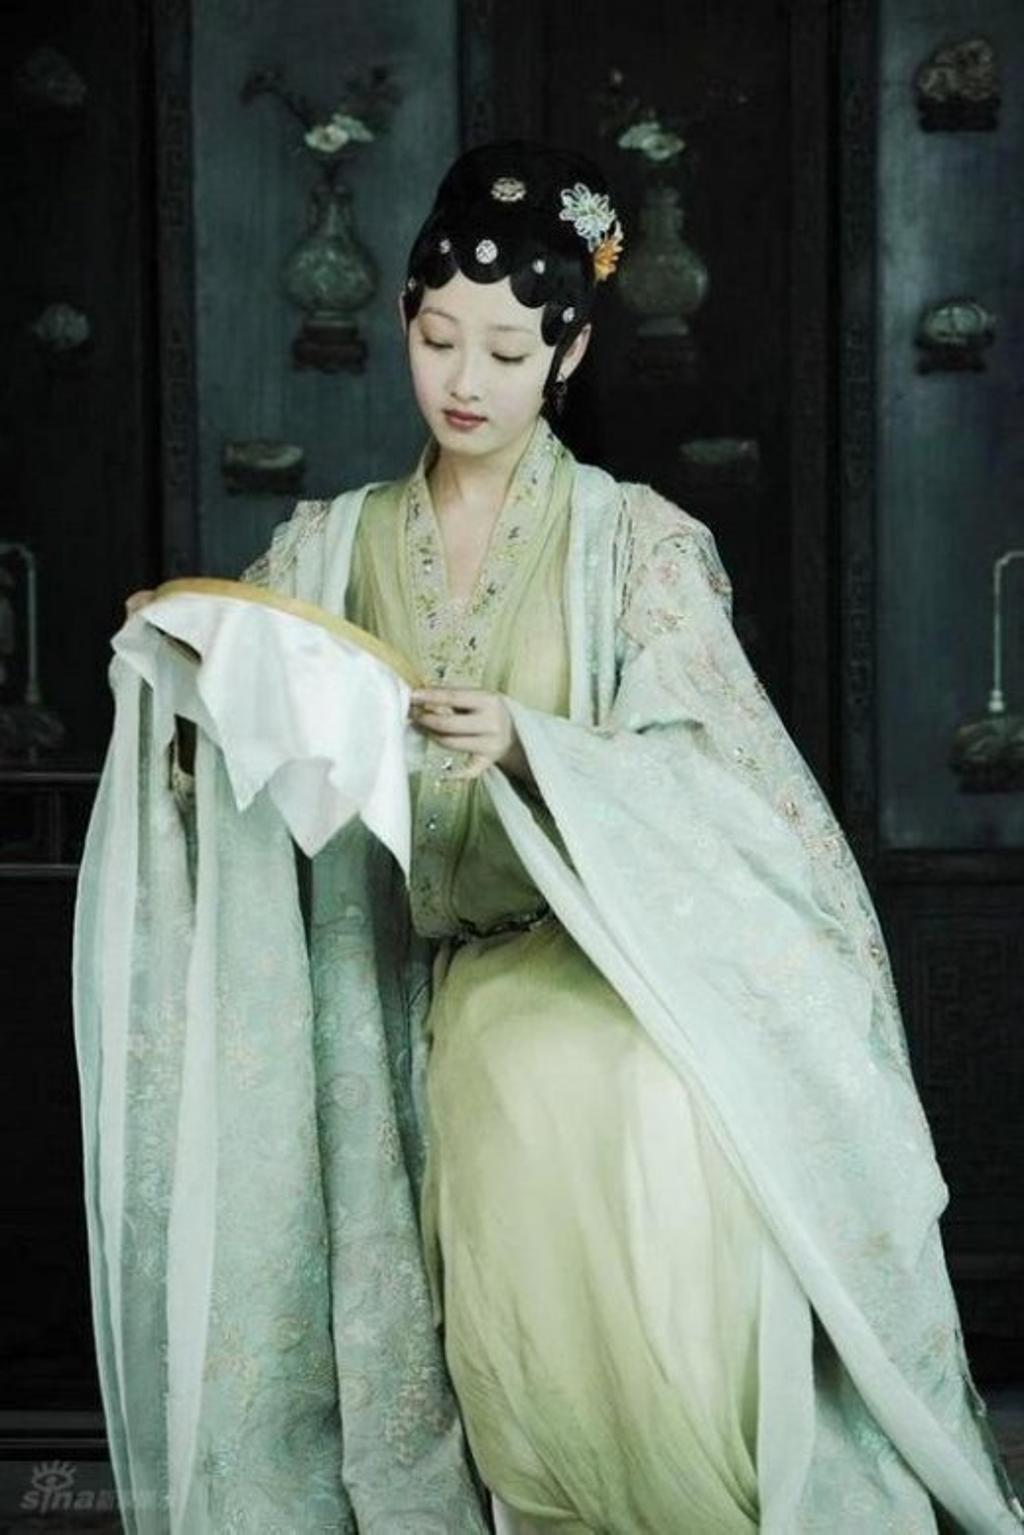face: (416, 237, 548, 450)
